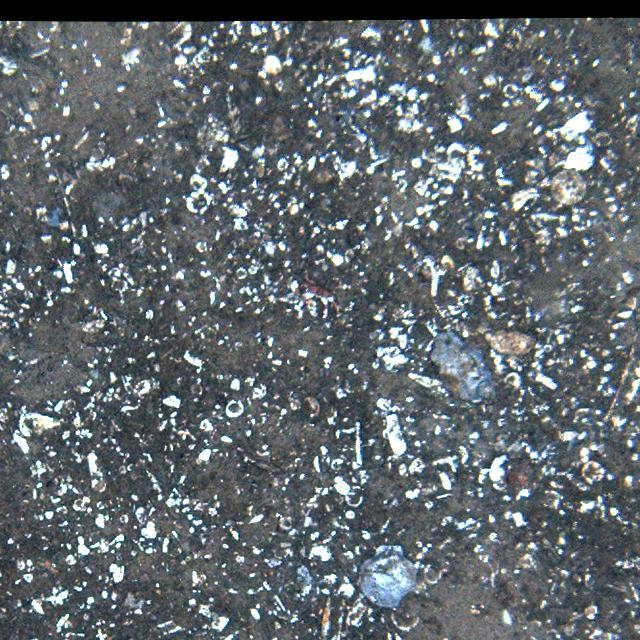crab: (292, 270, 342, 318)
